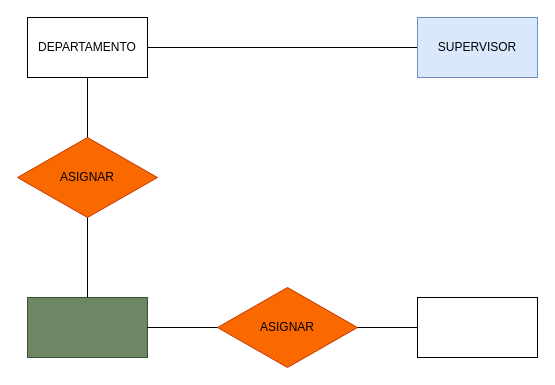
Image size: 555x385. Some labels were removed from this diagram. The shapes that lost their labels are listed below. From the top down, each one's box as (x1, y1, x2, y2) in pixels, then its label:
(26, 296, 148, 358): EMPLEADO
(416, 296, 538, 358): PROYECTO
